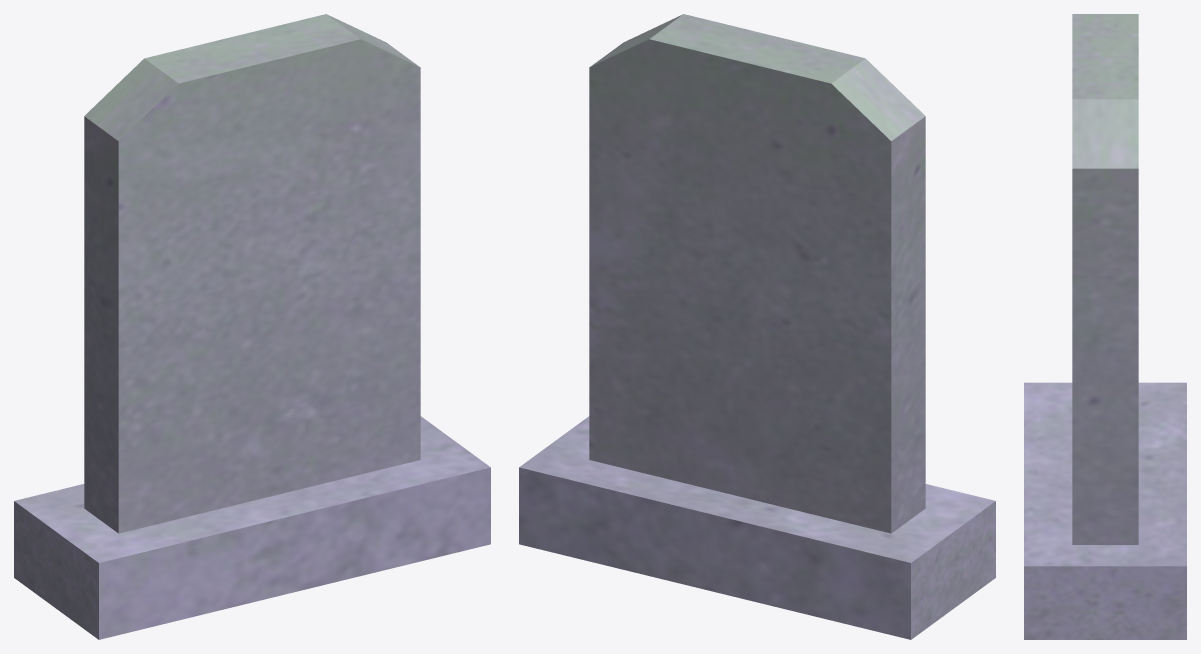
Rendered from g_gravestone_04.fbx.
3 views of the same model, side by side, from view 1: azimuth 30°, elevation 25°; view 2: azimuth 150°, elevation 25°; view 3: azimuth 270°, elevation 25° (orthographic). The views are drawn at different scales.
Visible parts, largest first — view 1: g_grvstn_04; view 2: g_grvstn_04; view 3: g_grvstn_04.
Boxes of the visible parts, left/top/right/bottom form: g_grvstn_04: left=14, top=14, right=490, bottom=639; g_grvstn_04: left=519, top=14, right=995, bottom=639; g_grvstn_04: left=1024, top=14, right=1186, bottom=639.
Bounding box in the file's own units: 80 × 99.9 × 30.
